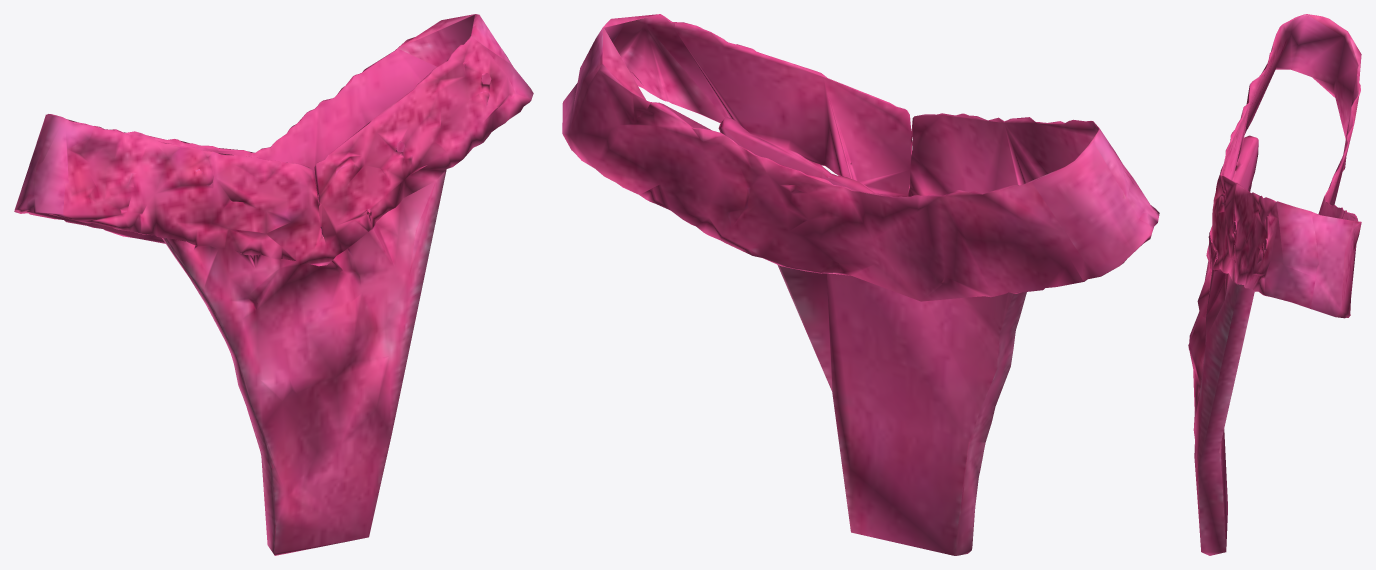
Rendered from panties.glb.
3 views of the same model, side by side, from view 1: azimuth 30°, elevation 25°; view 2: azimuth 150°, elevation 25°; view 3: azimuth 270°, elevation 25° (orthographic). The views are drawn at different scales.
Visible parts, largest first — view 1: tripo_node_58a6afaf; view 2: tripo_node_58a6afaf; view 3: tripo_node_58a6afaf.
Boxes of the visible parts, x1=… form: tripo_node_58a6afaf: x1=14, y1=14, x2=533, y2=555; tripo_node_58a6afaf: x1=562, y1=14, x2=1159, y2=555; tripo_node_58a6afaf: x1=1188, y1=14, x2=1361, y2=555.
Size of the model in its own units: 0.977 by 0.8205 by 0.3049.
Materials: 1 (1 with a texture image).
